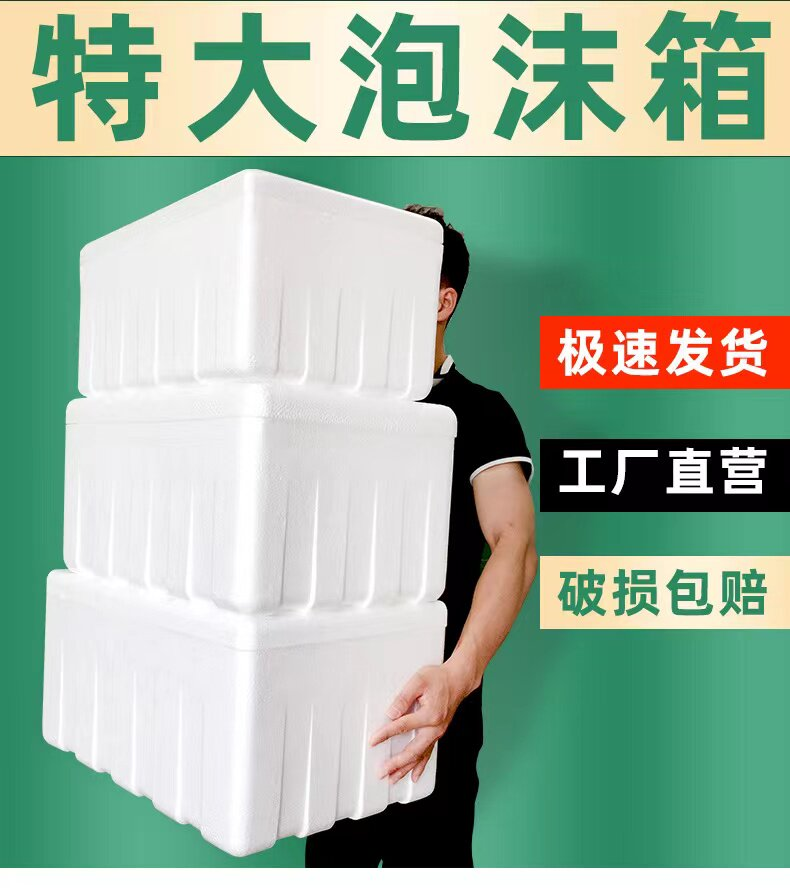泡沫箱: (43, 171, 456, 855)
